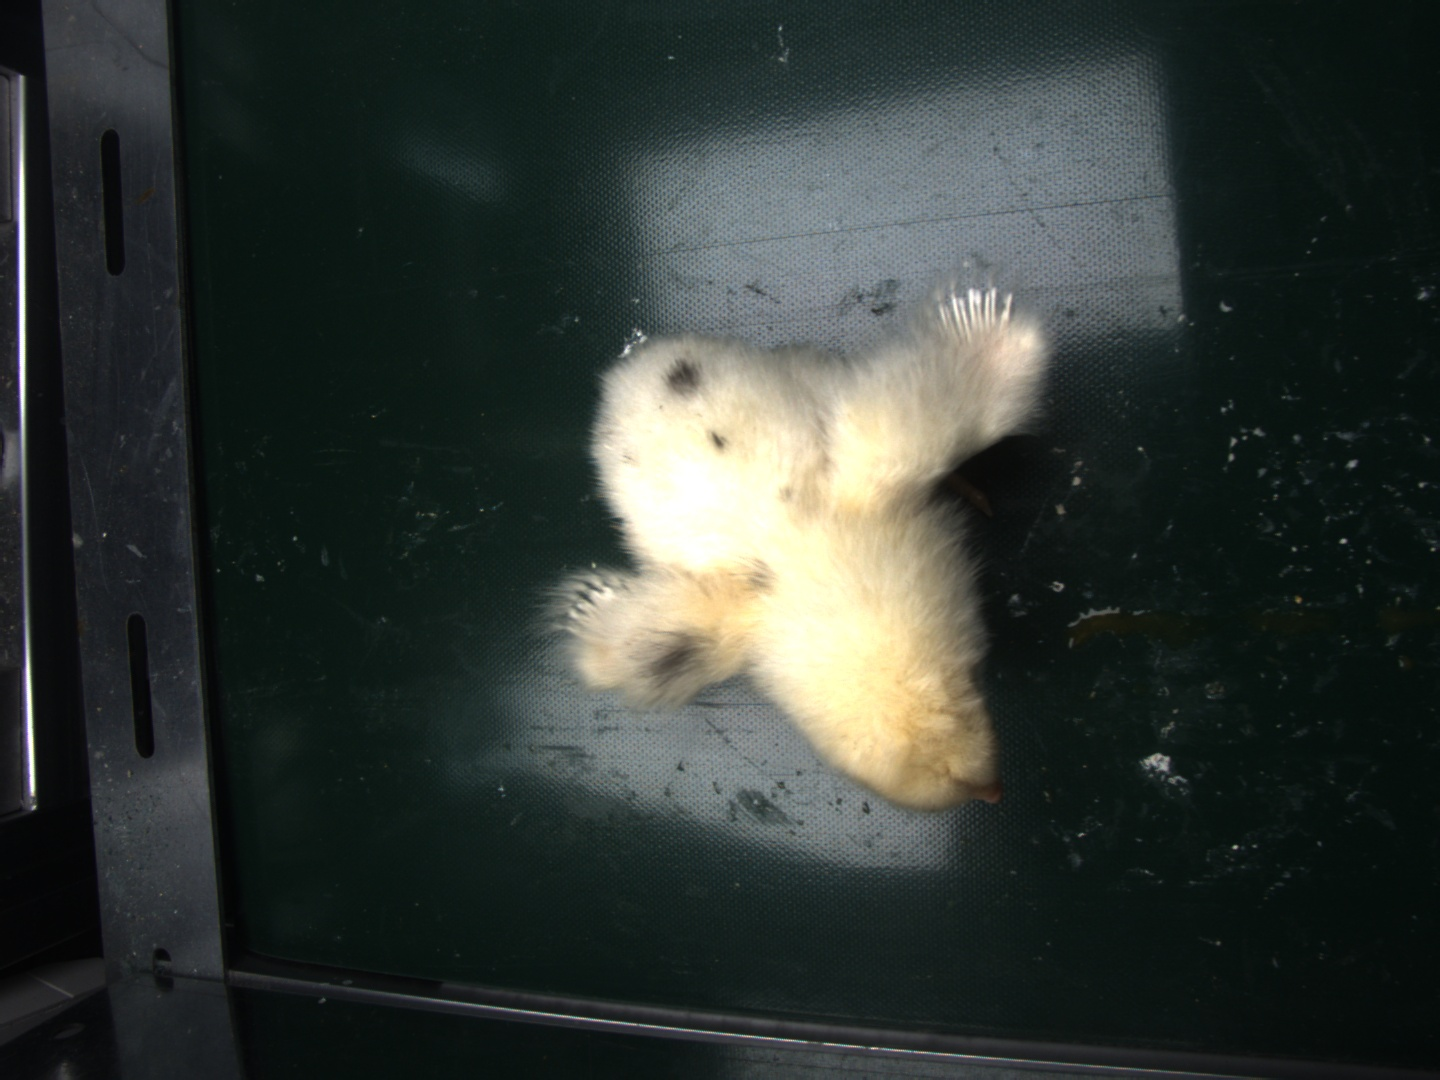male: (937, 282, 1014, 341)
